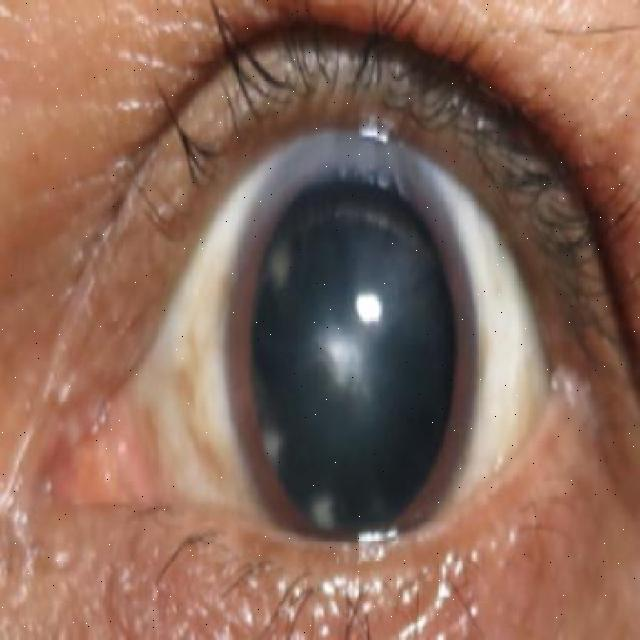Cataract: (222, 129, 486, 554)
